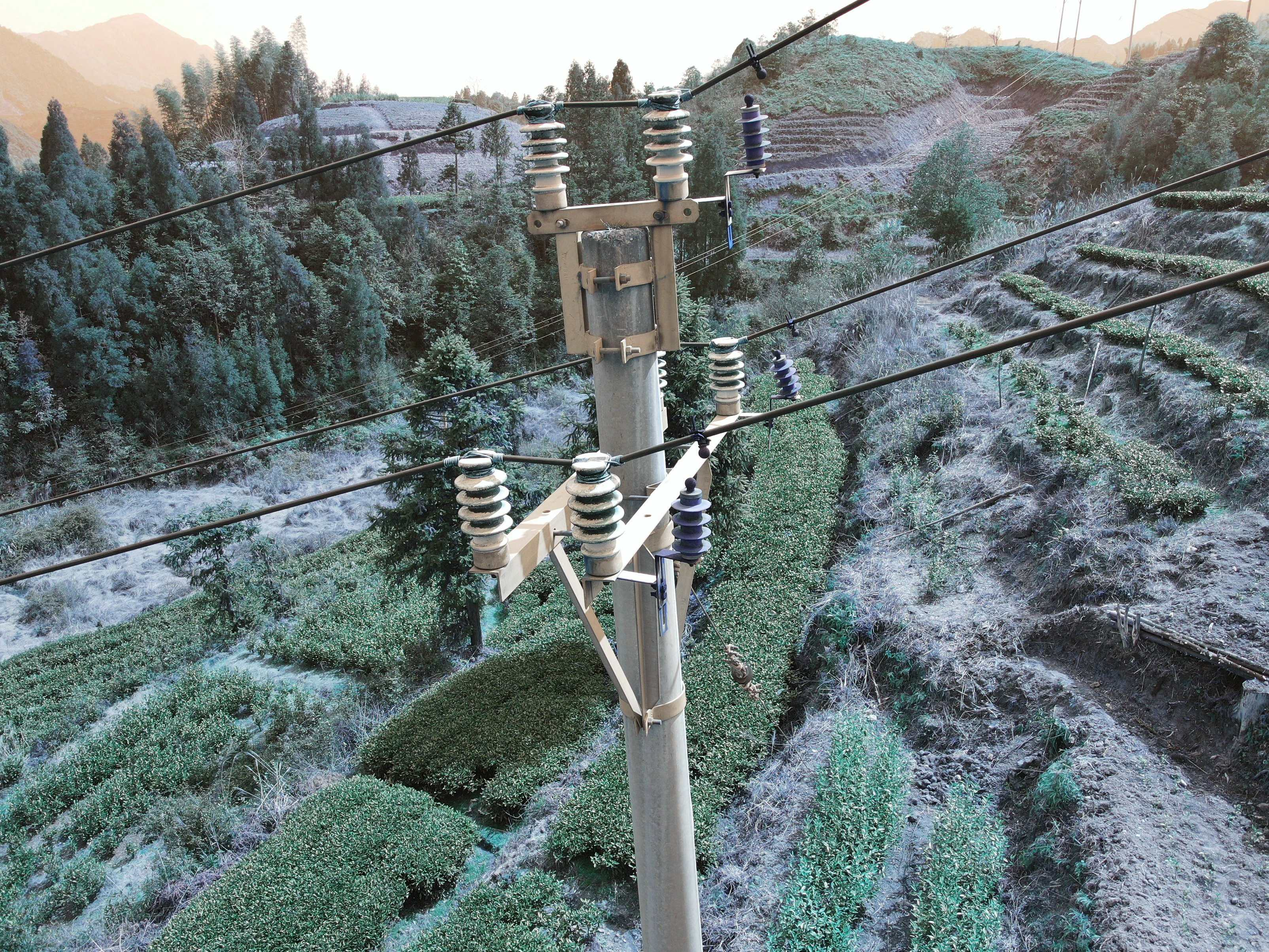severe_soiling_no_discharge_whole: (564, 450, 633, 577), (451, 450, 514, 566), (514, 97, 574, 214), (636, 90, 695, 203), (704, 337, 746, 414)
